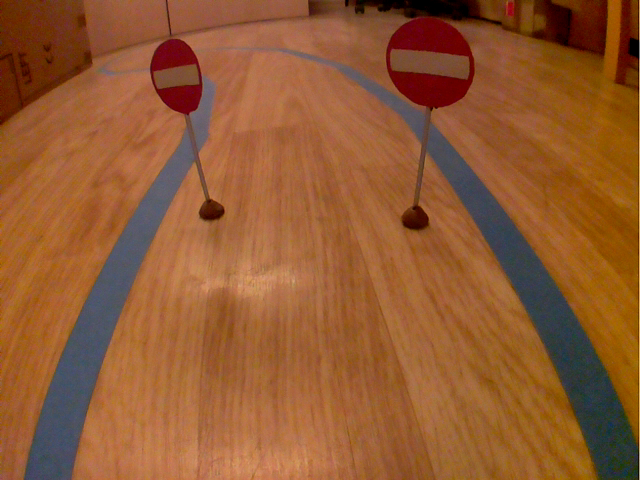Zakaz: (383, 14, 479, 113), (144, 34, 207, 118)
